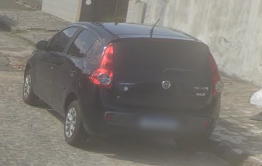car: (20, 20, 224, 148)
